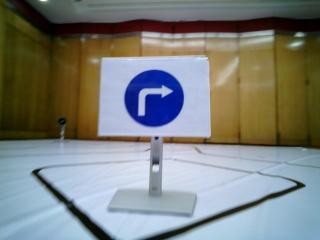right: (105, 60, 210, 136)
